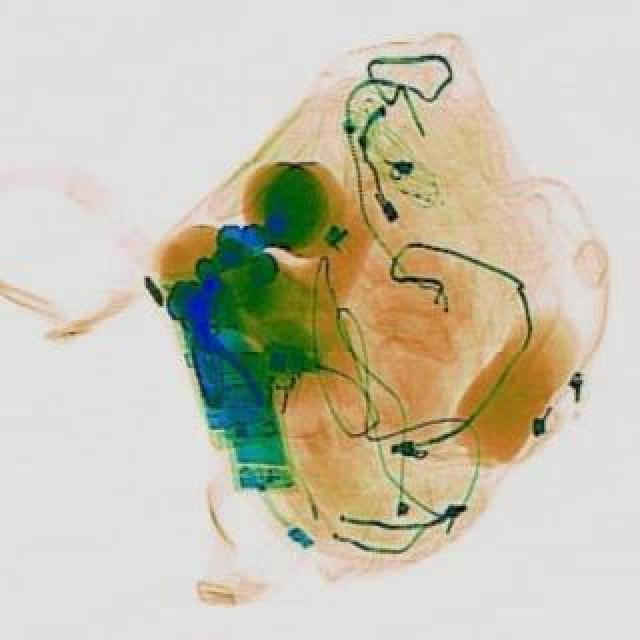wrench: (162, 288, 266, 422)
